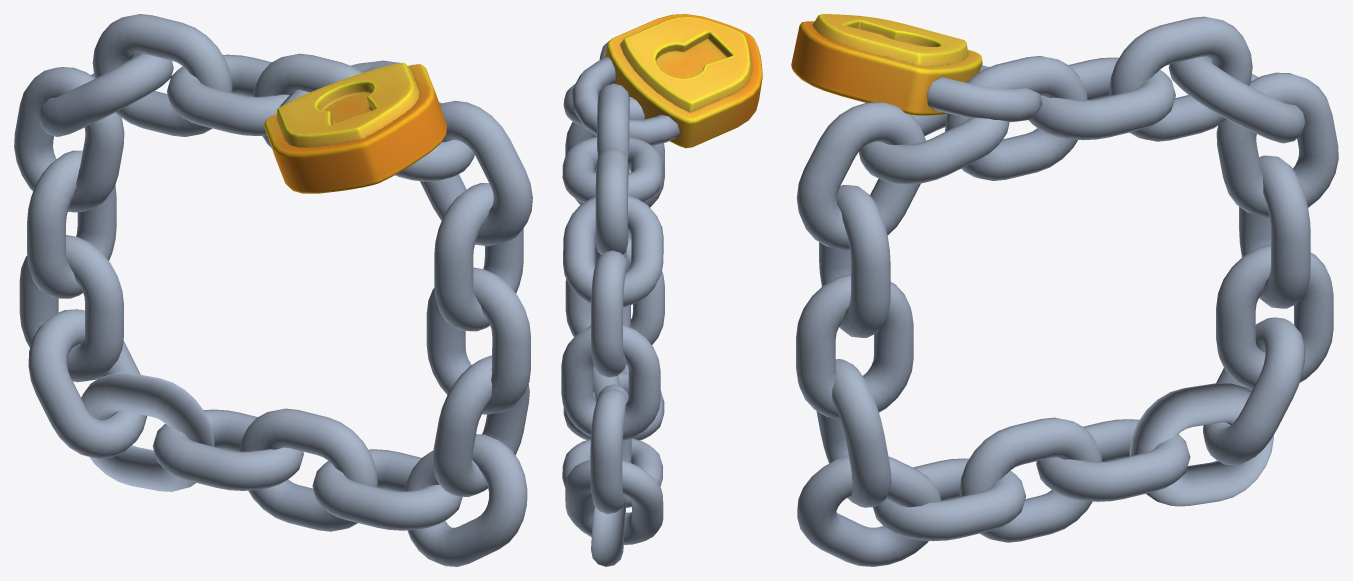
File: Chain_Block_01.fbx
The picture shows the model from 3 angles, left to right: view 1: azimuth 30°, elevation 25°; view 2: azimuth 150°, elevation 25°; view 3: azimuth 270°, elevation 25°; orthographic projection. The views are drawn at different scales.
Parts seen in each view (by area): view 1: Chain; view 2: Chain; view 3: Chain.
Part boxes in pixels (x1,y1,x2,y2): Chain: (14, 14, 532, 566); Chain: (561, 14, 762, 566); Chain: (791, 14, 1338, 566).
Bounding box in the file's own units: 0.965 × 1.53 × 1.48.
1 material, 1 textured.
